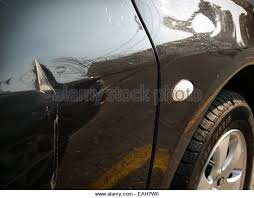Dent: (27, 59, 109, 137)
Scratch: (50, 106, 60, 189)
